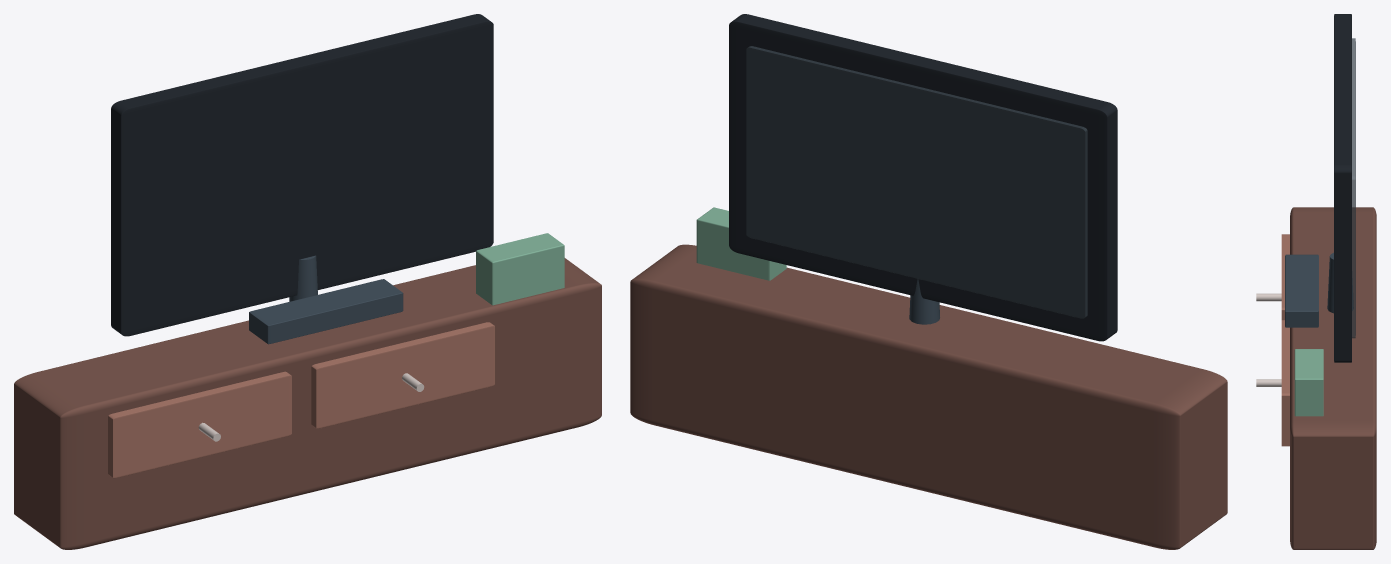
File: media-console.glb
3 renders of one model, left to right at view 1: azimuth 30°, elevation 25°; view 2: azimuth 150°, elevation 25°; view 3: azimuth 270°, elevation 25°, orthographic. The views are drawn at different scales.
Visible parts, largest first — view 1: thin black tv bezel, rounded media cabinet body, right raised drawer face, left raised drawer face, sound bar, small decor block, tv stand neck; view 2: rounded media cabinet body, thin black tv bezel, dark reflective tv panel, small decor block, tv stand neck; view 3: rounded media cabinet body, thin black tv bezel, sound bar, small decor block, dark reflective tv panel, right raised drawer face, left raised drawer face, brushed metal drawer pull (×2), tv stand neck.
Part boxes in pixels (<box>): thin black tv bezel: <box>111,14,493,336</box>; rounded media cabinet body: <box>14,258,601,549</box>; right raised drawer face: <box>311,322,495,428</box>; left raised drawer face: <box>108,371,291,478</box>; sound bar: <box>249,279,403,344</box>; small decor block: <box>476,233,564,305</box>; tv stand neck: <box>289,255,317,301</box>; rounded media cabinet body: <box>630,244,1227,549</box>; thin black tv bezel: <box>729,14,1117,341</box>; dark reflective tv panel: <box>746,46,1087,318</box>; small decor block: <box>696,207,786,280</box>; tv stand neck: <box>909,279,939,324</box>; rounded media cabinet body: <box>1290,207,1376,549</box>; thin black tv bezel: <box>1334,14,1351,362</box>; sound bar: <box>1285,254,1318,327</box>; small decor block: <box>1294,349,1323,416</box>; dark reflective tv panel: <box>1352,38,1355,338</box>; right raised drawer face: <box>1281,320,1289,446</box>; left raised drawer face: <box>1281,234,1289,319</box>; brushed metal drawer pull (×2): <box>1256,293,1281,386</box>; tv stand neck: <box>1327,252,1353,313</box>.
Size of the model in its own units: 2.24 by 1.6 by 0.5.
